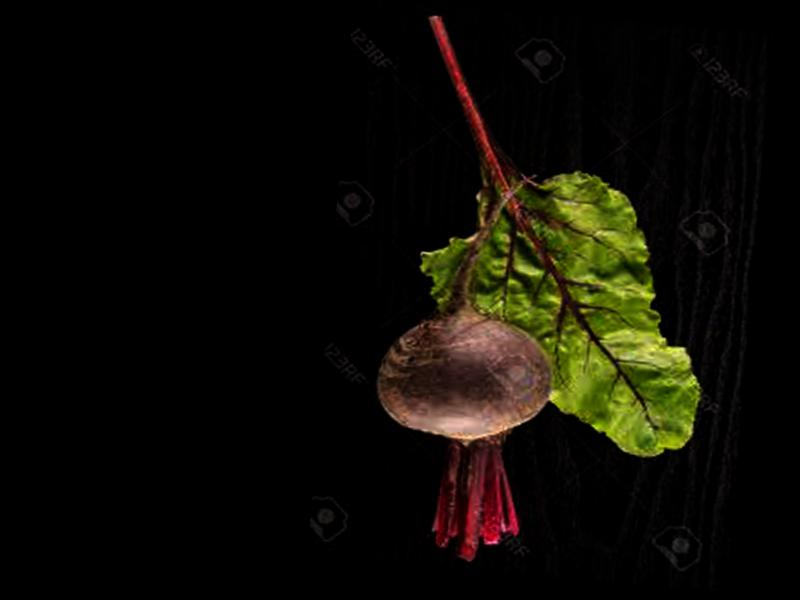Beet: (362, 163, 569, 567)
